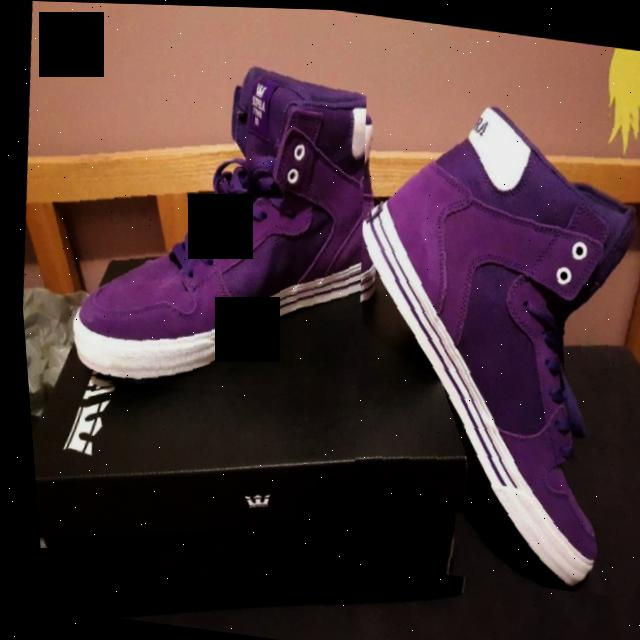shoe: (314, 68, 640, 598), (38, 27, 406, 420)
